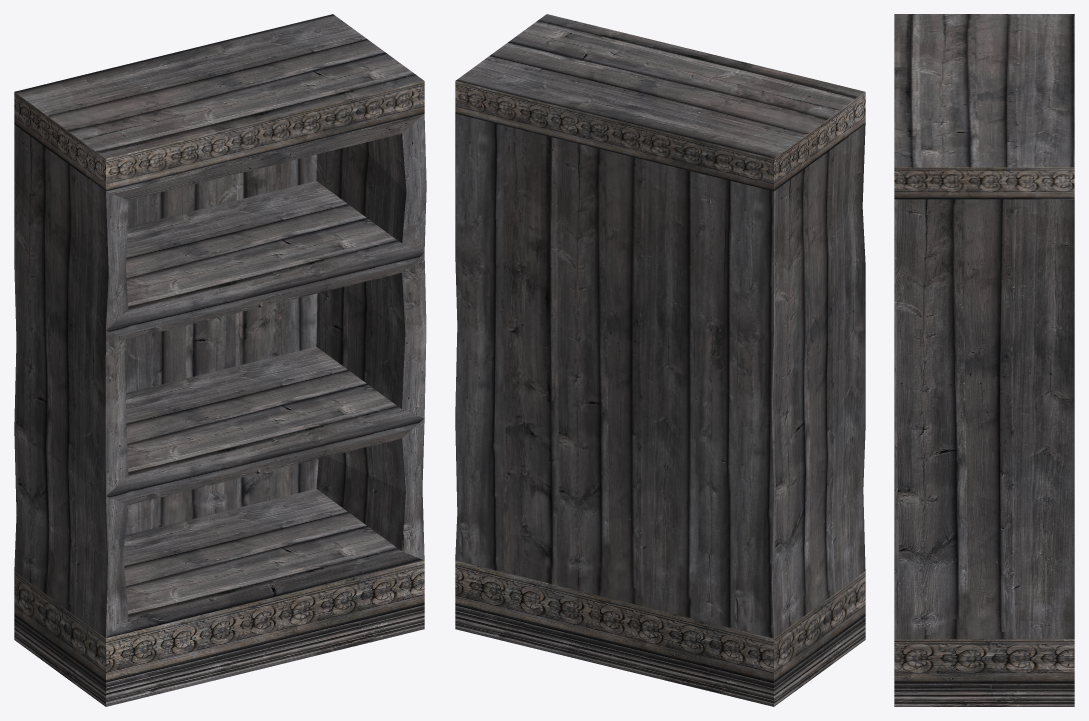
File: tavern_shelf1.dae
3 views of the same model, side by side, from view 1: azimuth 30°, elevation 25°; view 2: azimuth 150°, elevation 25°; view 3: azimuth 270°, elevation 25° (orthographic).
Visible parts, largest first — view 1: Default_Layer; view 2: Default_Layer; view 3: Default_Layer.
Boxes of the visible parts, x1=… form: Default_Layer: x1=14, y1=14, x2=426, y2=706; Default_Layer: x1=455, y1=14, x2=865, y2=706; Default_Layer: x1=894, y1=14, x2=1074, y2=706.
Bounding box in the file's own units: 3.08 × 5.03 × 1.52.
